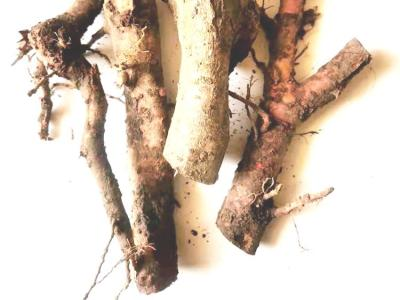Root: (216, 0, 370, 254), (163, 0, 262, 184), (84, 95, 130, 252), (29, 0, 99, 94), (103, 0, 162, 96)
